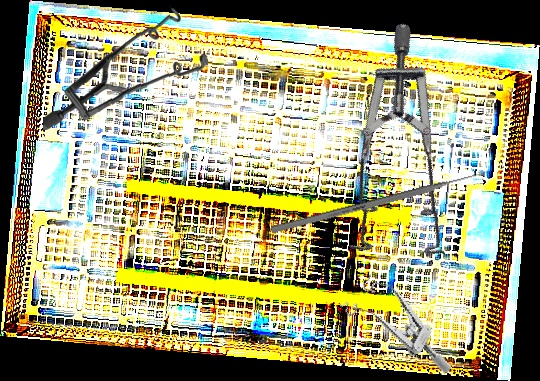Pusher: (270, 168, 491, 234)
Speculum: (279, 19, 540, 294), (42, 3, 211, 136), (333, 267, 473, 376)
